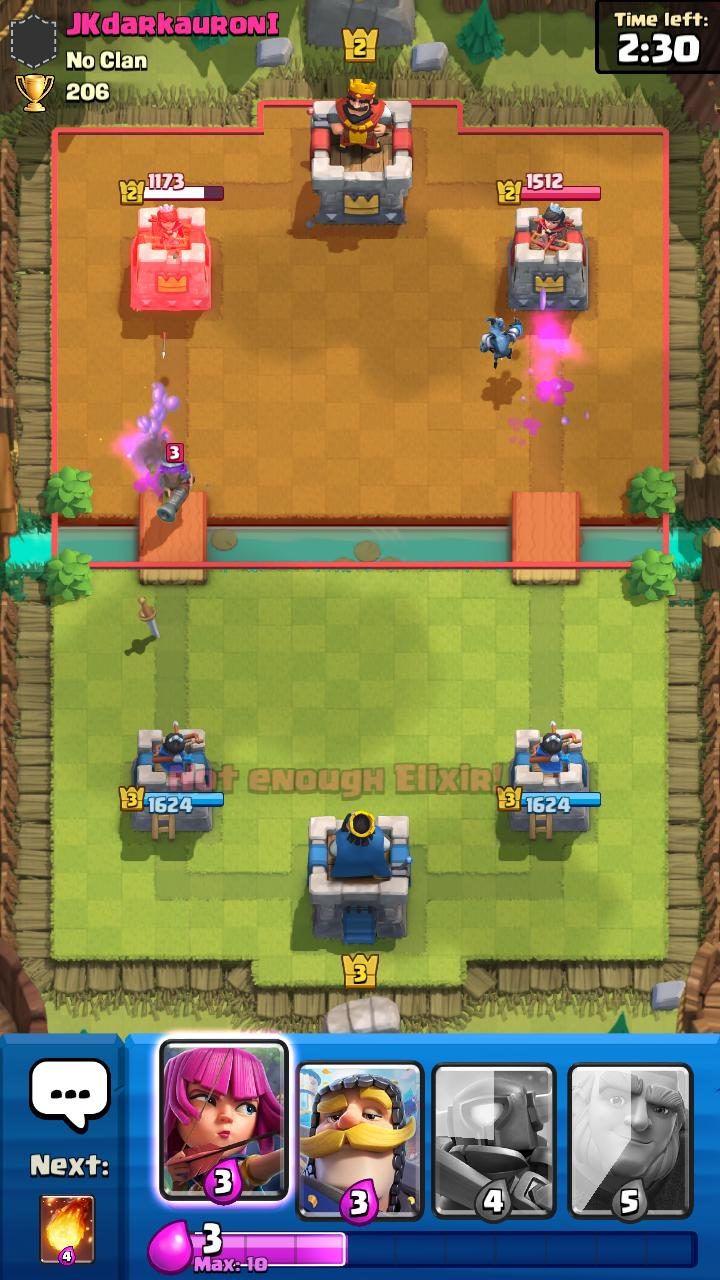ally: (480, 317, 523, 369)
enemy: (157, 443, 195, 523)
